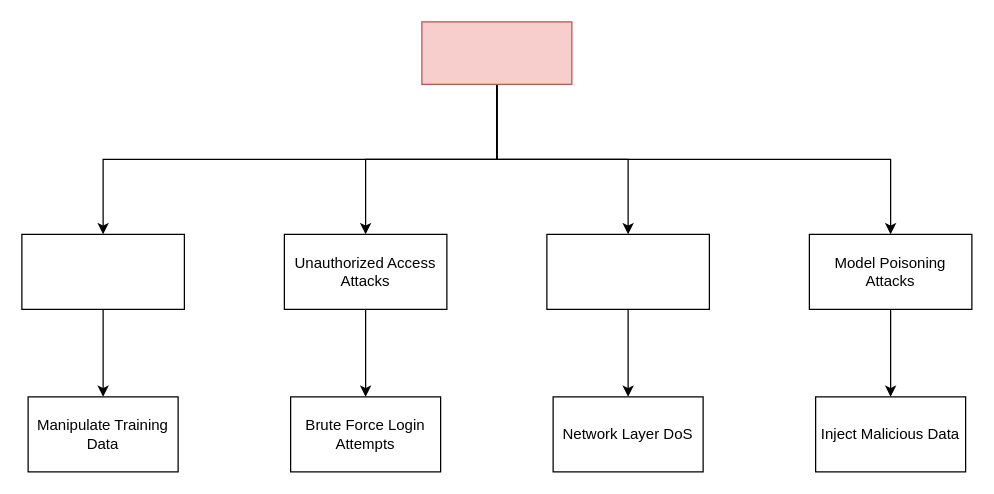
Image size: 994x494. Some labels were removed from this diagram. Each missing label, with the box of its shape:
Data Manipulation Attacks: (21, 233, 184, 309)
Denial of Service (DoS) Attacks: (546, 233, 709, 309)
Stock Analysis AI: (421, 21, 572, 84)
